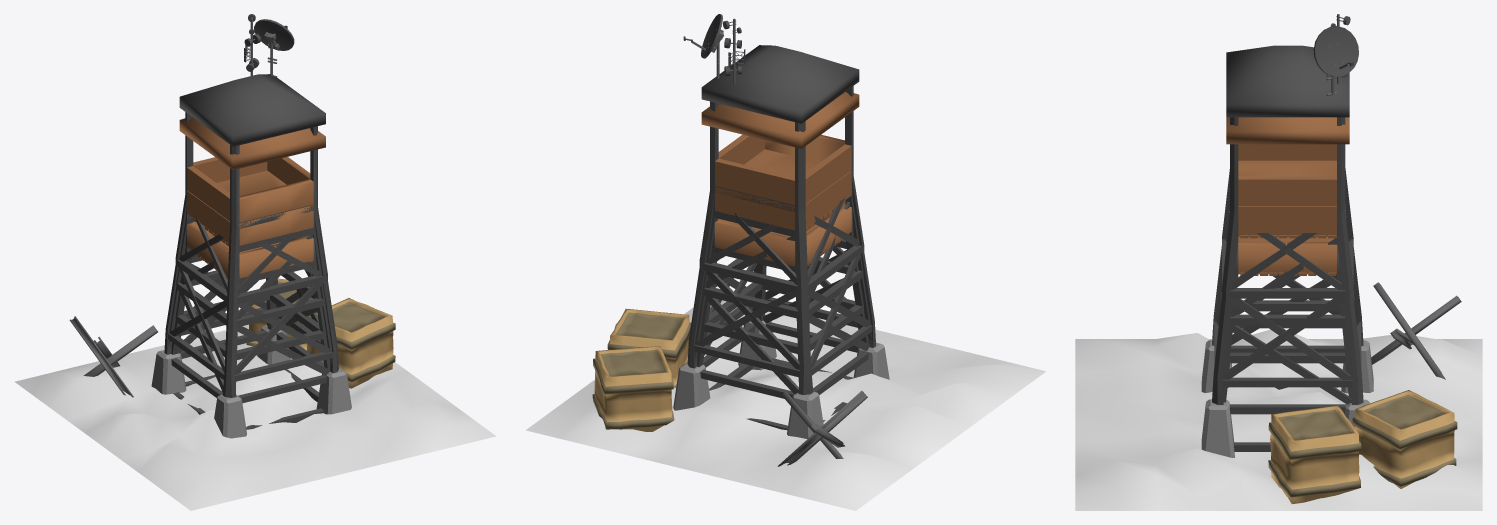
File: watchtower.fbx
3 renders of one model, left to right at view 1: azimuth 30°, elevation 25°; view 2: azimuth 150°, elevation 25°; view 3: azimuth 270°, elevation 25°, orthographic. The views are drawn at different scales.
Visible parts, largest first — view 1: snow, watchtower_t3, watchtower_t2, watchtower_t1, watchtower_t2.001, antenna_1; view 2: watchtower_t3, snow, watchtower_t2, watchtower_t1, watchtower_t2.001, antenna_1, antenna_2; view 3: watchtower_t3, snow, watchtower_t2, watchtower_t1, watchtower_t2.001, antenna_1.
Boxes of the visible parts, box(x1,y1,x2,y2) form: snow: box(14, 324, 496, 510); watchtower_t3: box(69, 74, 395, 438); watchtower_t2: box(168, 117, 332, 403); watchtower_t1: box(171, 241, 330, 429); watchtower_t2.001: box(185, 221, 316, 278); antenna_1: box(254, 19, 294, 77); watchtower_t3: box(592, 45, 889, 466); snow: box(526, 300, 1045, 510); watchtower_t2: box(694, 91, 871, 398); watchtower_t1: box(697, 224, 868, 429); watchtower_t2.001: box(712, 203, 853, 266); antenna_1: box(683, 14, 723, 78); antenna_2: box(723, 18, 745, 85); watchtower_t3: box(1201, 45, 1461, 504); snow: box(1075, 329, 1482, 510); watchtower_t2: box(1216, 117, 1359, 414); watchtower_t1: box(1223, 236, 1352, 451); watchtower_t2.001: box(1235, 242, 1340, 271); antenna_1: box(1313, 26, 1358, 95).
Size of the model in its own units: 234 by 271 by 234.
